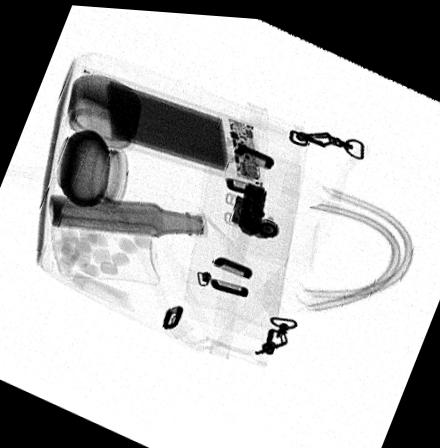Powerbank: (80, 63, 264, 184)
